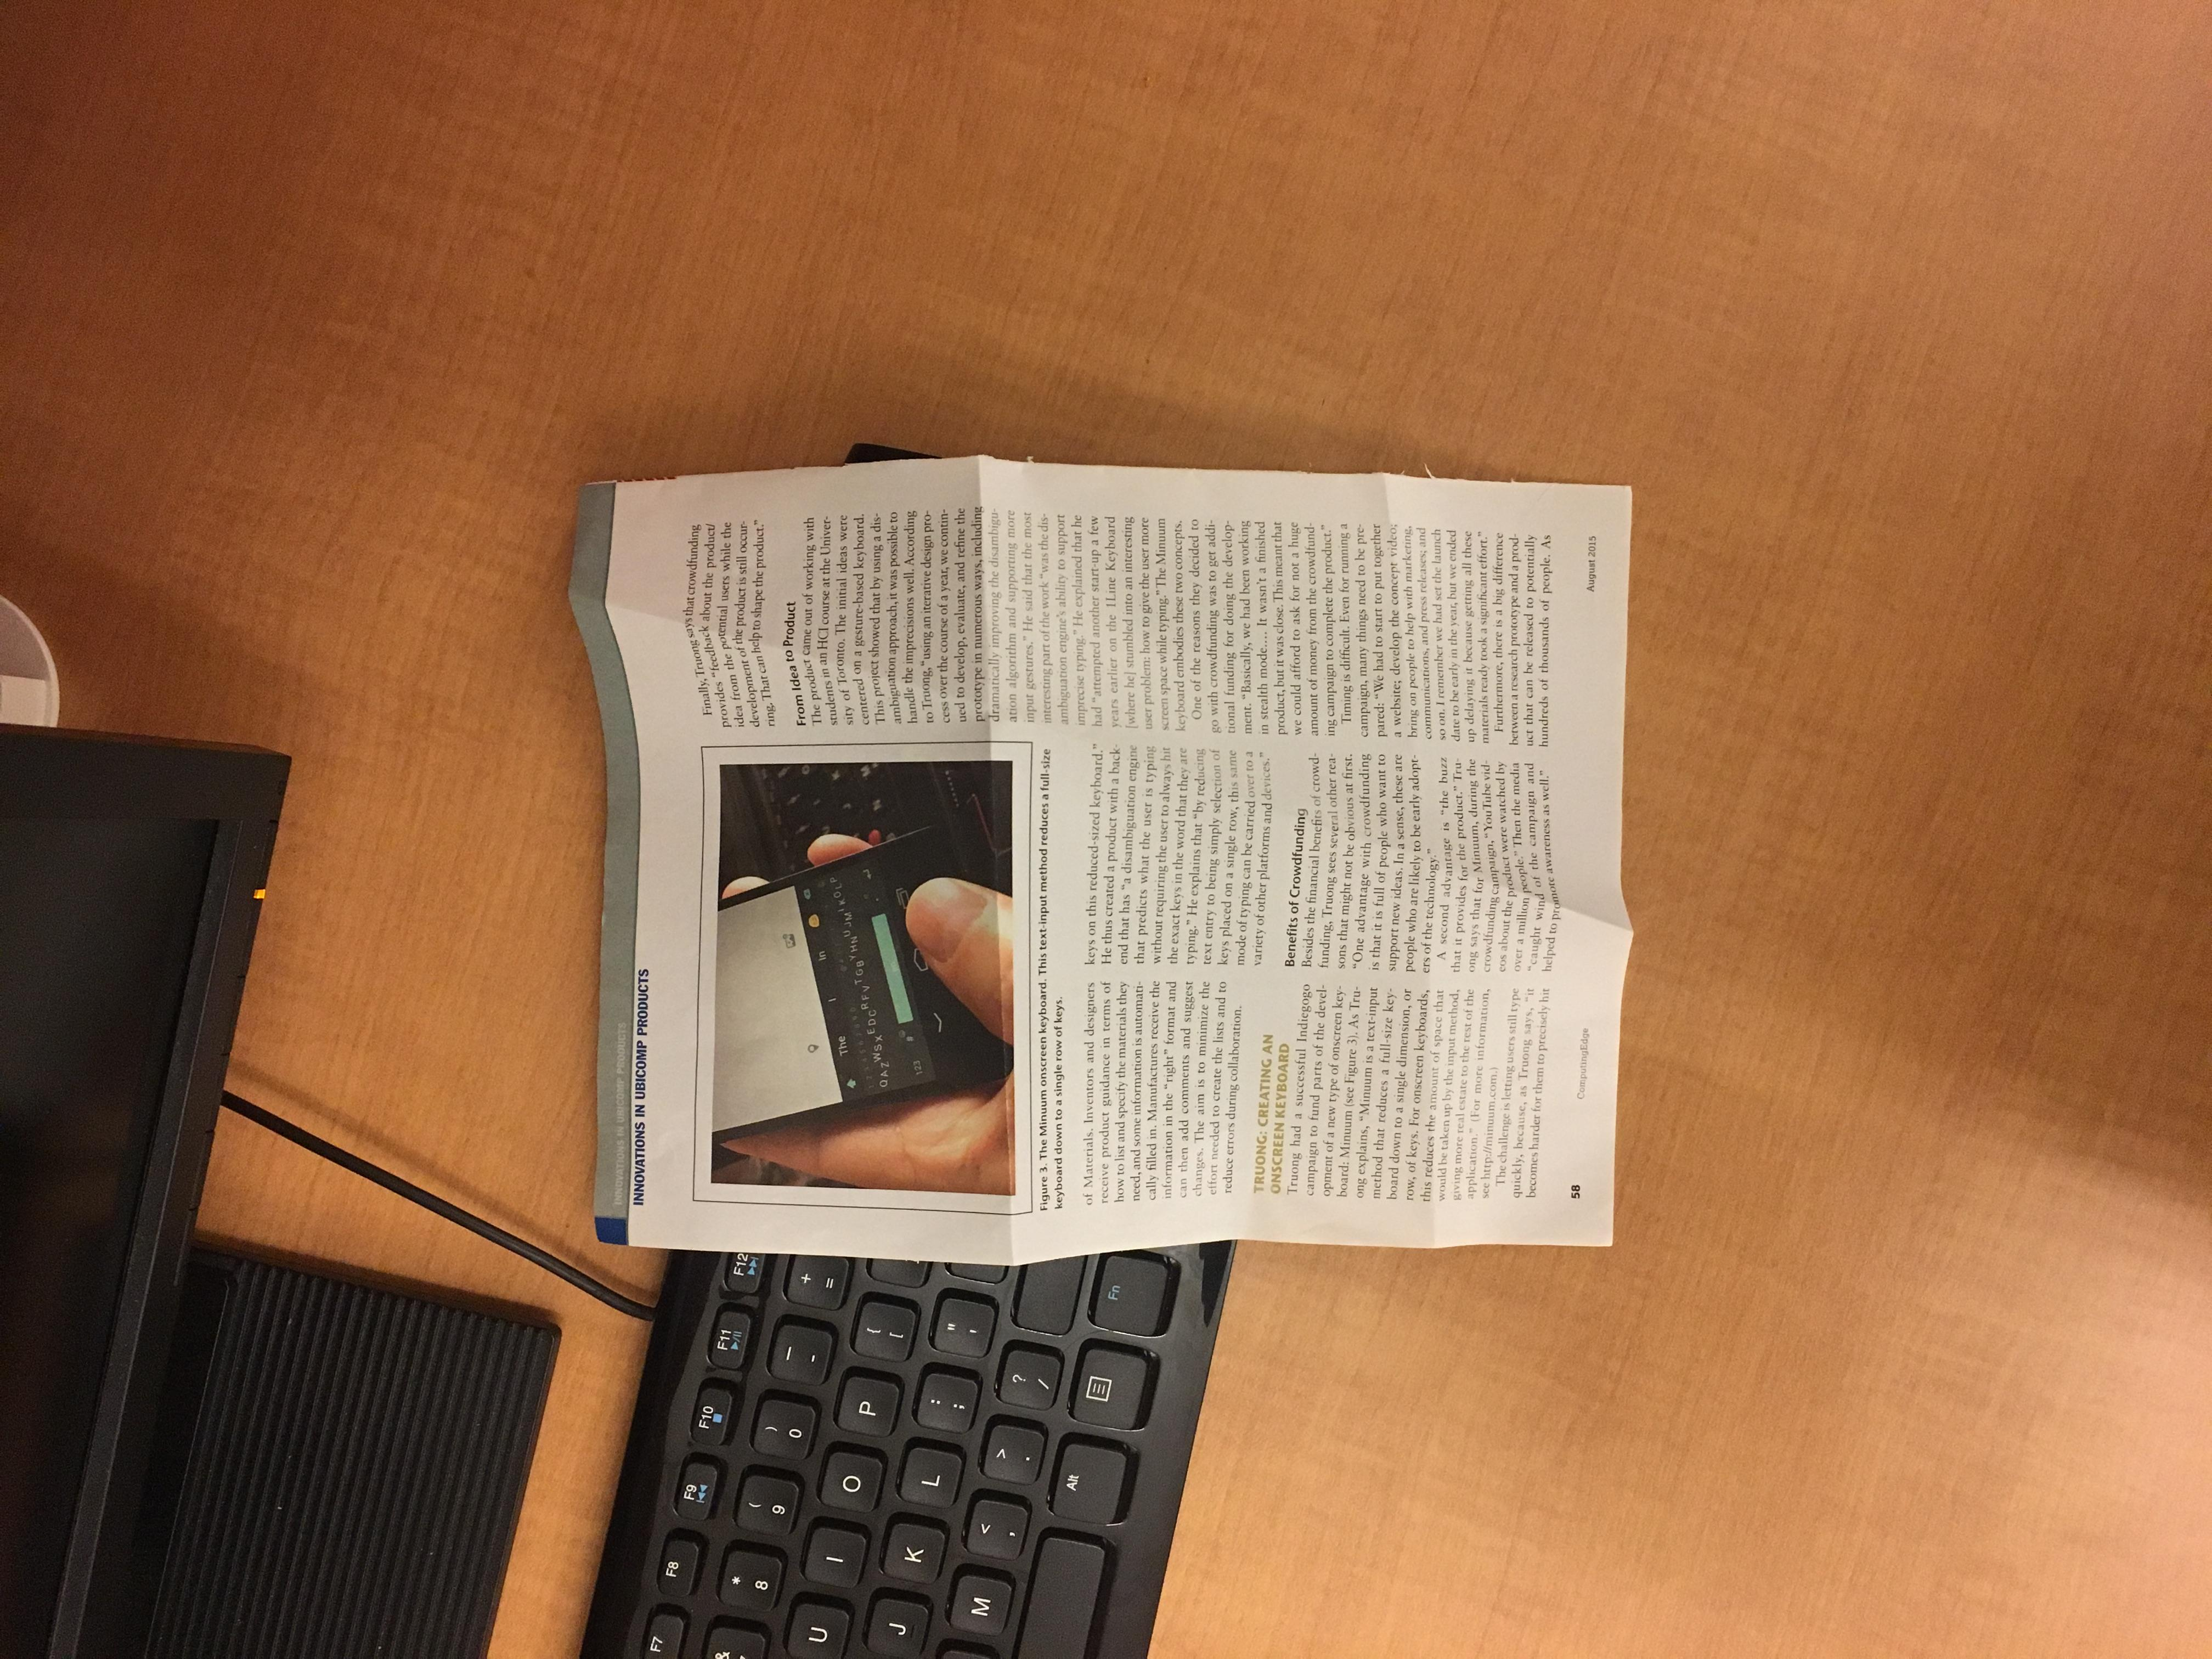paper: (169, 218, 2020, 1439)
